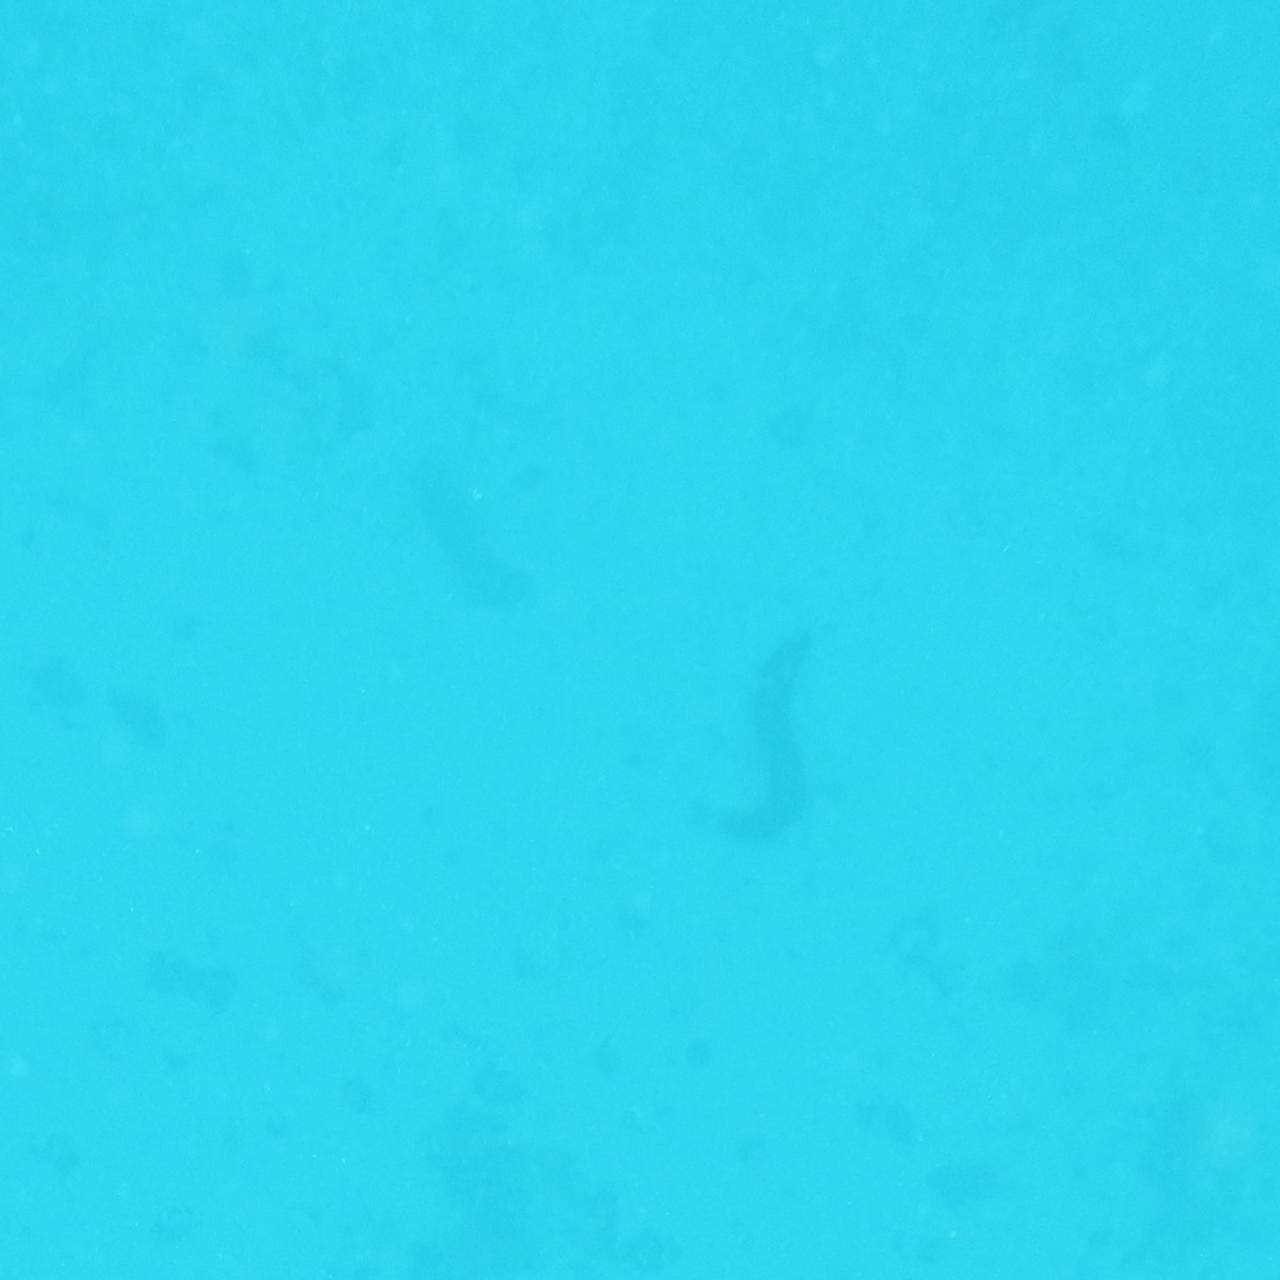Holothuria tubulosa: (712, 619, 849, 857), (423, 463, 579, 622)
